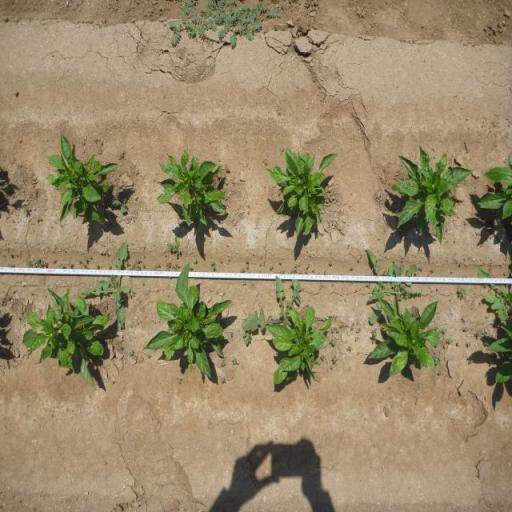plant: (384, 144, 472, 246), (22, 296, 110, 381), (264, 146, 340, 240), (150, 274, 232, 360), (44, 131, 114, 226), (368, 299, 442, 387), (156, 145, 230, 230), (265, 305, 334, 388), (476, 154, 512, 220)
weed: (166, 0, 292, 48), (87, 244, 132, 315), (367, 247, 423, 302), (238, 279, 295, 328), (476, 266, 512, 319), (167, 236, 182, 256), (26, 256, 48, 268), (112, 196, 127, 213), (128, 258, 146, 271), (242, 331, 252, 346), (458, 287, 468, 300), (370, 328, 378, 344), (230, 356, 240, 366), (22, 204, 30, 216), (345, 322, 355, 331), (172, 262, 181, 272), (432, 354, 440, 365), (330, 327, 340, 334), (165, 262, 172, 272), (175, 377, 183, 385), (332, 354, 338, 364), (68, 260, 74, 270), (305, 263, 310, 275), (446, 337, 453, 345), (330, 338, 337, 346), (82, 262, 89, 270), (210, 261, 216, 270), (292, 264, 298, 273), (59, 262, 66, 269), (239, 267, 246, 274), (476, 330, 482, 338), (220, 376, 226, 384), (154, 263, 160, 271), (220, 361, 227, 367), (365, 282, 371, 289), (483, 340, 489, 346), (442, 328, 448, 334), (468, 359, 474, 365), (346, 346, 352, 352), (94, 264, 100, 270), (104, 250, 110, 256), (244, 264, 250, 270), (128, 350, 134, 356), (320, 354, 325, 361), (356, 326, 361, 333), (269, 264, 274, 271), (463, 326, 468, 332), (328, 365, 334, 370), (339, 323, 344, 329), (131, 290, 137, 295), (50, 258, 56, 263), (84, 256, 89, 262), (124, 260, 130, 265), (298, 269, 303, 275), (328, 261, 334, 266), (118, 344, 123, 350), (467, 342, 471, 348), (355, 336, 359, 342), (129, 294, 133, 300), (78, 258, 82, 264), (108, 263, 112, 269), (192, 258, 198, 262), (219, 258, 223, 264), (245, 258, 249, 264), (279, 270, 285, 274), (147, 354, 151, 359), (438, 370, 441, 376), (230, 331, 233, 337), (189, 266, 193, 270), (289, 270, 293, 274), (142, 280, 144, 286), (90, 254, 92, 260), (279, 260, 282, 264), (324, 270, 326, 276), (298, 262, 300, 266), (312, 268, 314, 272)
